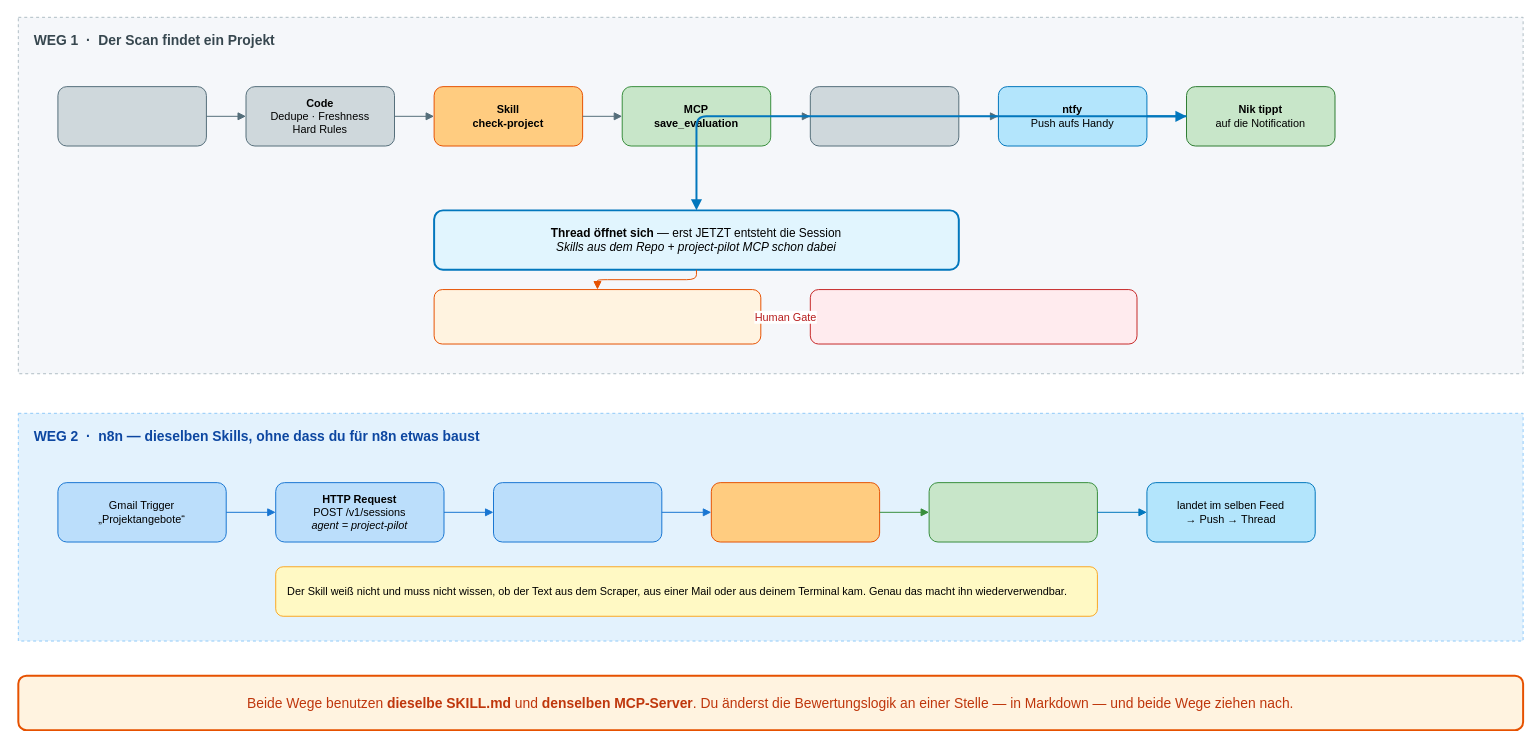
The diagram is 1540 pixels wide and 748 high, and some of its shapes have lost their labels. Each missing label, with the centre of its shape:
"MCP ingest_listing save_evaluation" goes at (1012,512).
"Nik bestätigt → MCP send_application" goes at (973,316).
"PostgreSQL" goes at (884,116).
"Scheduler alle 15 Min" goes at (131,116).
"Skill check-project derselbe wie oben" goes at (795,512).
"„Prüfe dieses Angebot: {mail body} “" goes at (577,512).
"„Schreib die Bewerbung“ → Skill write-application → MCP save_draft" goes at (597,316).
